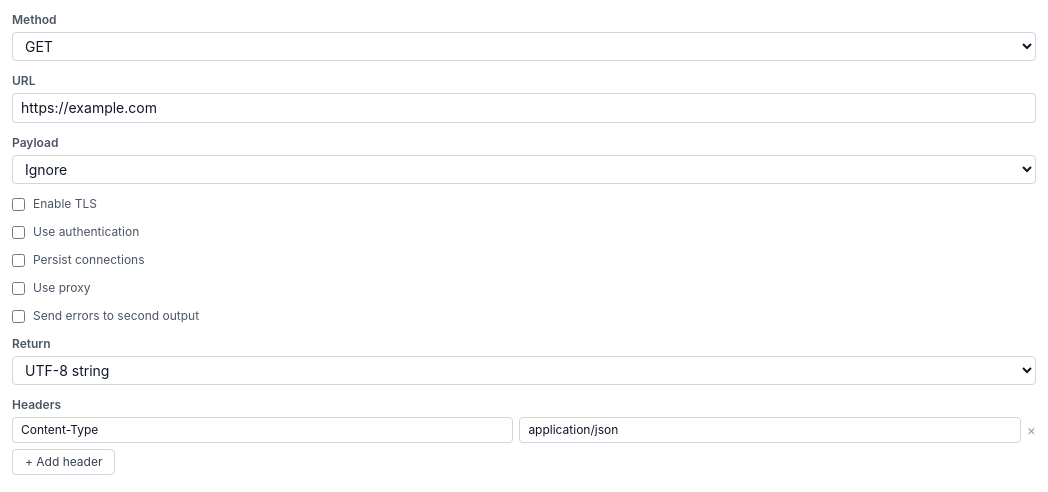
HttpRequestEditor › removes a header row
Expected: the element with test id "httprequest-header-0" is shown, [12,417,1036,443]
Click the button with test id "httprequest-remove-header-0" at (1031, 430), box [1027,423,1036,437]
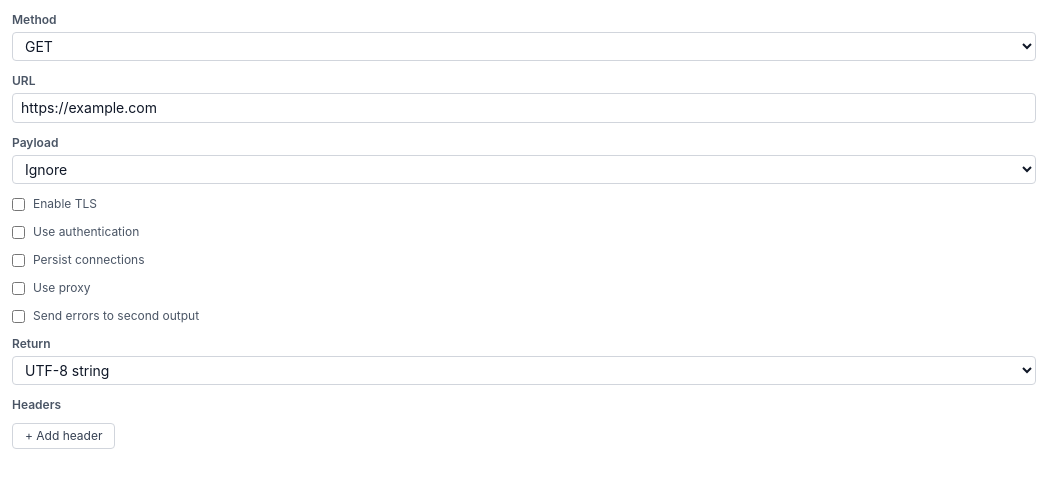
Expected: the element with test id "httprequest-header-0" is gone
